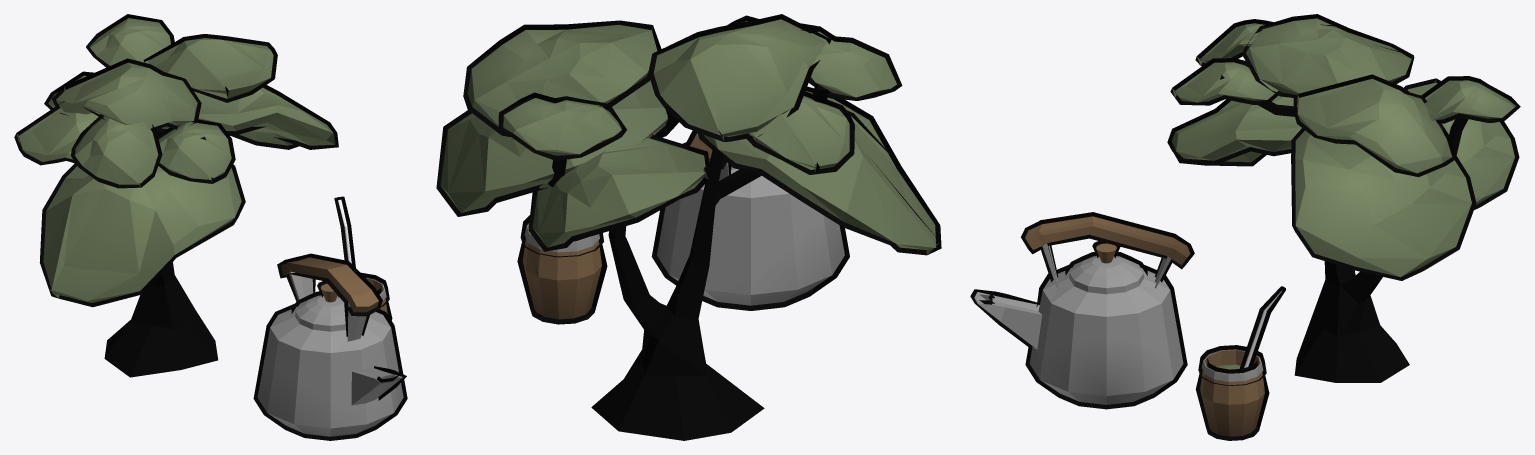
Rendered from Evento Mesopotamia.fbx.
The picture shows the model from 3 angles, left to right: view 1: azimuth 30°, elevation 25°; view 2: azimuth 150°, elevation 25°; view 3: azimuth 270°, elevation 25°; orthographic projection. The views are drawn at different scales.
Parts seen in each view (by area): view 1: Cylinder.008; view 2: Cylinder.008; view 3: Cylinder.008.
Boxes of the visible parts, left/top/right/bottom form: Cylinder.008: left=14, top=14, right=407, bottom=440; Cylinder.008: left=436, top=14, right=941, bottom=440; Cylinder.008: left=970, top=14, right=1520, bottom=440.
Size of the model in its own units: 732 by 619 by 993.
2 materials, 1 textured.
